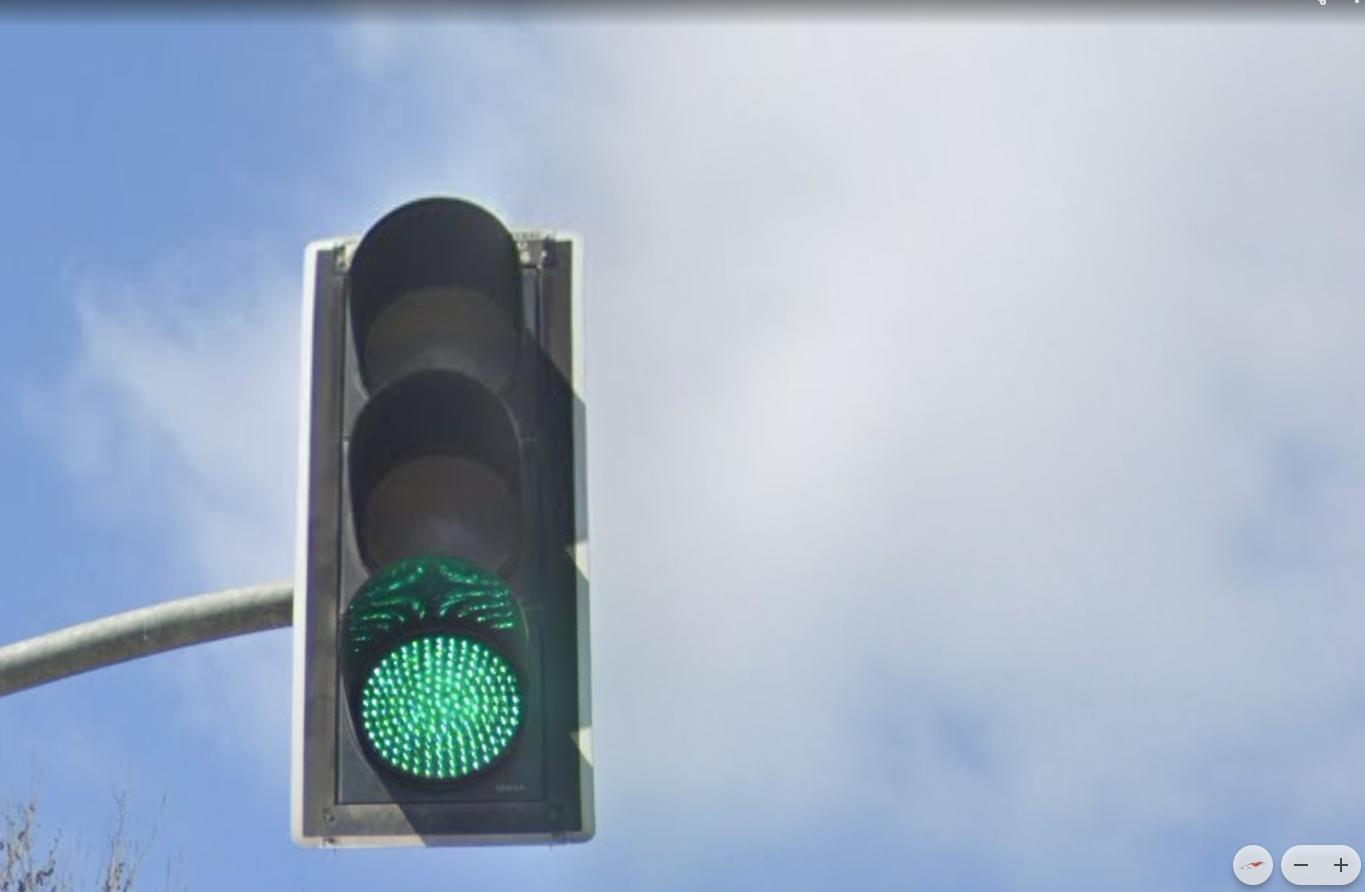greenlight: (295, 212, 598, 839)
